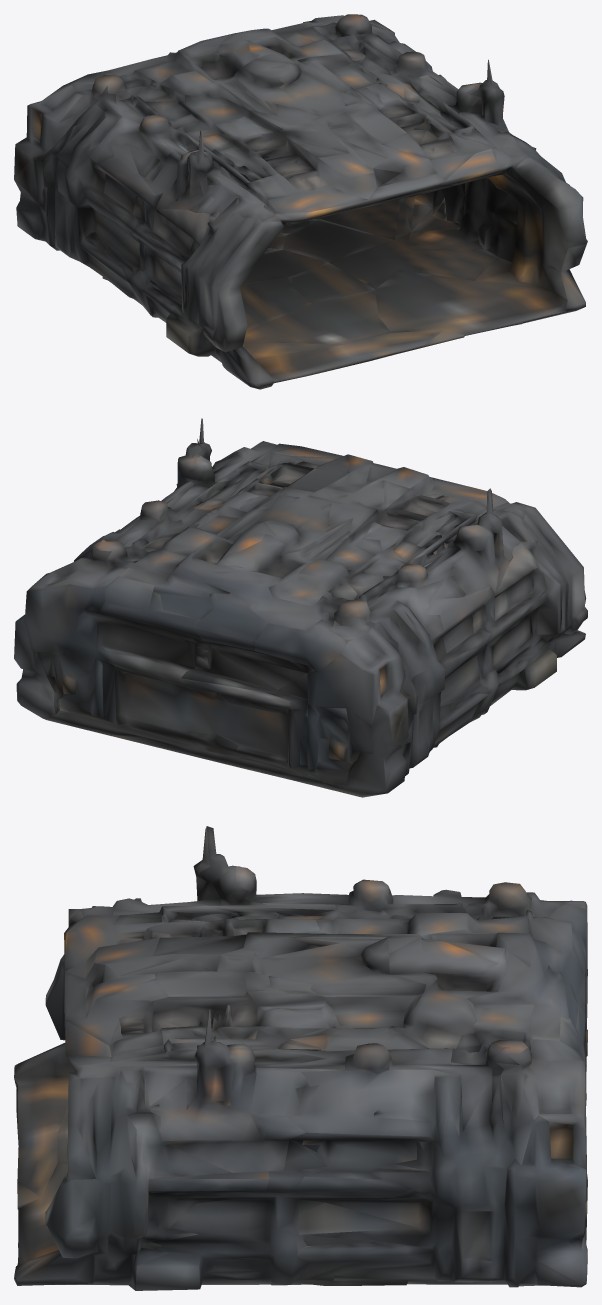
Rendered from CTF_Hangar_Bay.glb.
The picture shows the model from 3 angles, top to bottom: view 1: azimuth 30°, elevation 25°; view 2: azimuth 150°, elevation 25°; view 3: azimuth 270°, elevation 25°; orthographic projection. The views are drawn at different scales.
Visible parts, largest first — view 1: Mesh_0; view 2: Mesh_0; view 3: Mesh_0.
Boxes of the visible parts, <box> form: Mesh_0: <box>14,14,587,389</box>; Mesh_0: <box>14,418,587,797</box>; Mesh_0: <box>14,826,587,1290</box>.
Bounding box in the file's own units: 22 × 11.28 × 21.99.
1 material, 1 textured.
